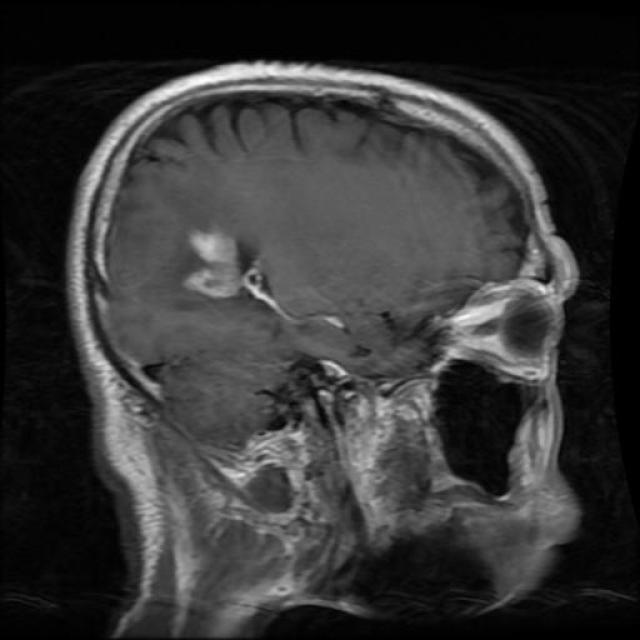glioma: (180, 224, 284, 322)
